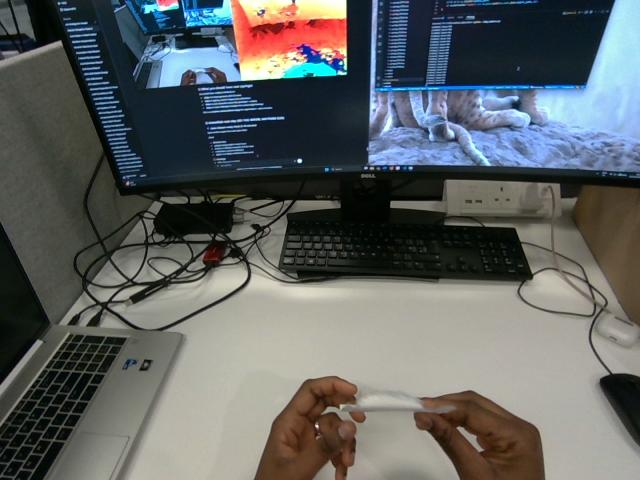gauze: (340, 390, 454, 413)
